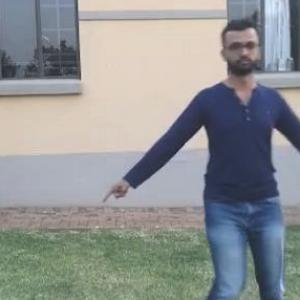land: (108, 35, 299, 299)
